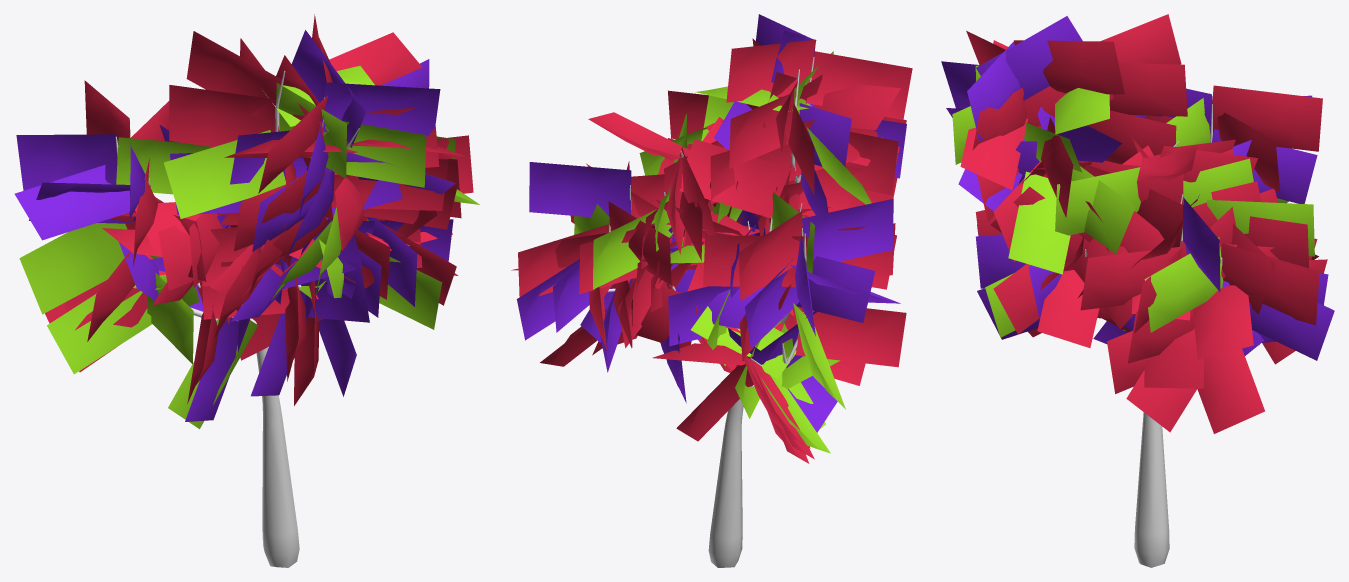
Rendered from Boom7.fbx.
3 renders of one model, left to right at view 1: azimuth 30°, elevation 25°; view 2: azimuth 150°, elevation 25°; view 3: azimuth 270°, elevation 25°, orthographic. The views are drawn at different scales.
Visible parts, largest first — view 1: Boom1_LOD0; view 2: Boom1_LOD0; view 3: Boom1_LOD0.
Part boxes in pixels (x1,y1,x2,y2): Boom1_LOD0: (14, 14, 479, 567); Boom1_LOD0: (511, 14, 912, 567); Boom1_LOD0: (941, 14, 1334, 567).
Size of what is drawn, in the model's own units: 2711 by 3643 by 2414.
